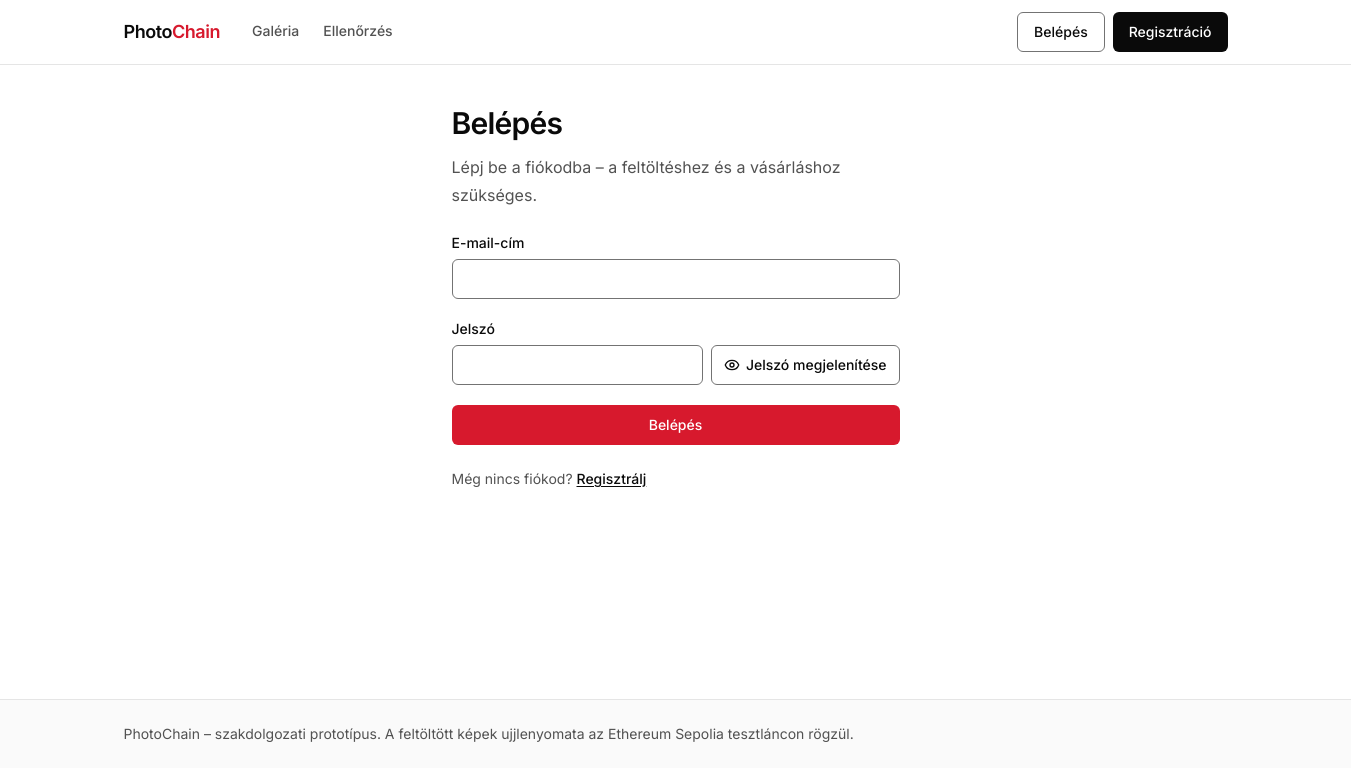
LoginPage › hibás adatoknál a szerver üzenetét riasztásként mutatja, a beírt e-mail-cím megmarad
Step 1. Type "anna@pelda.hu" into the field labelled "E-mail-cím" → (676, 279), box [452,259,900,299]
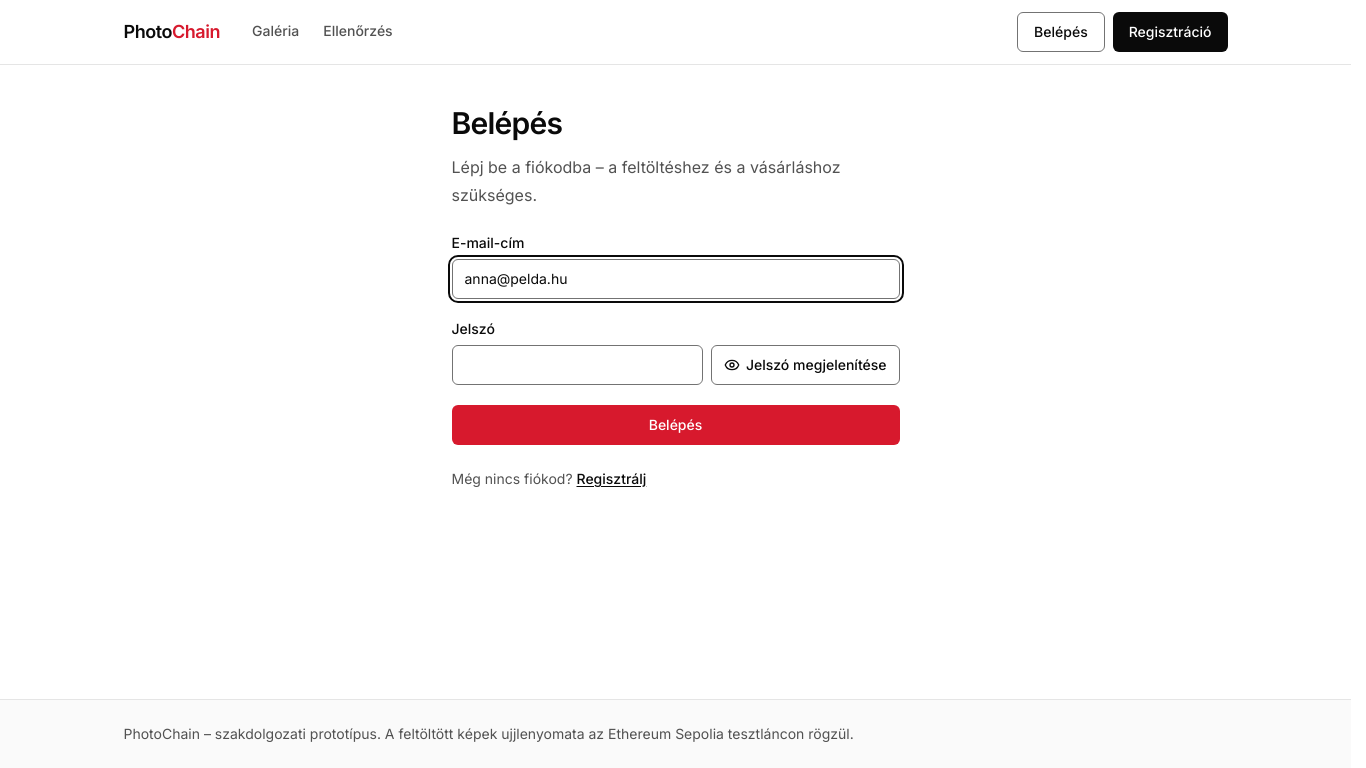
Step 2. Type "rossz-jelszo" into the password field labelled "Jelszó" → (577, 365), box [452,345,703,385]
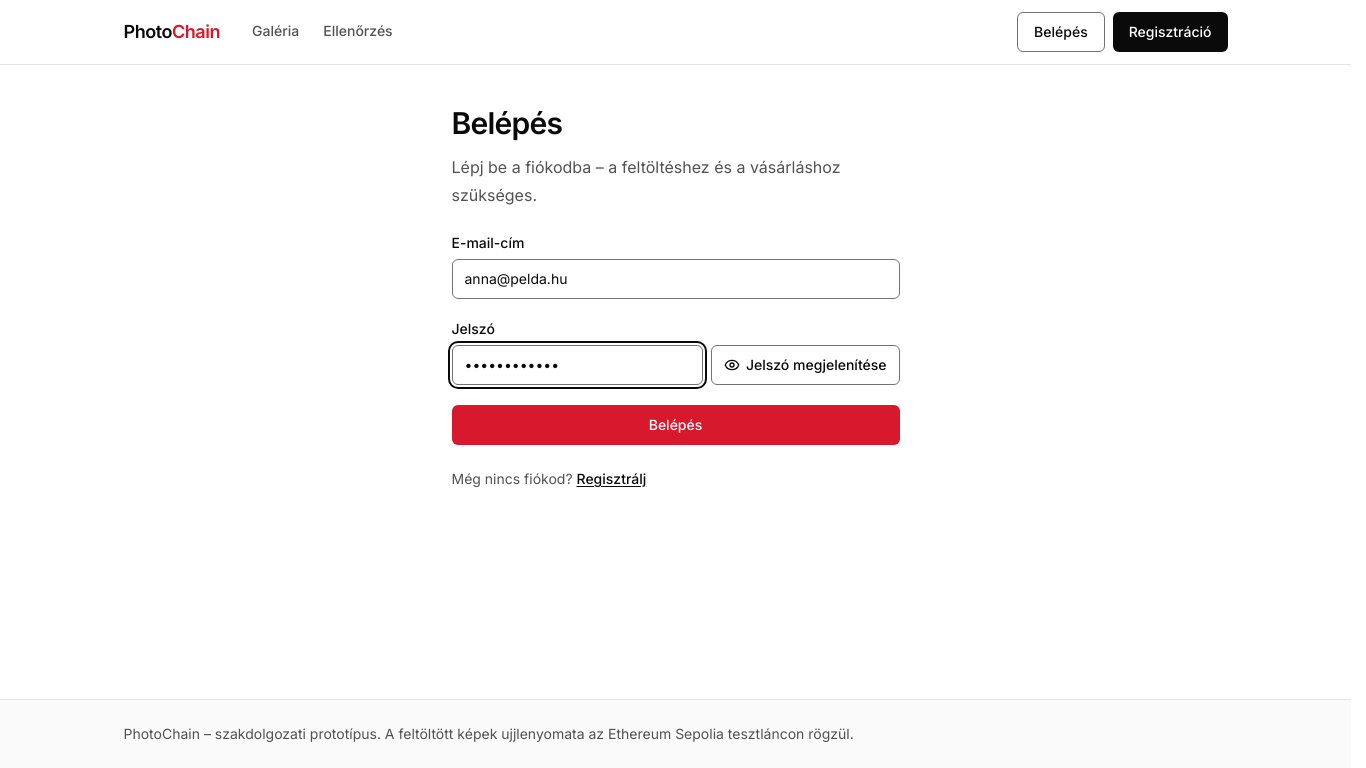
Step 3. Click the button "Belépés" → (676, 425), box [452,405,900,445]
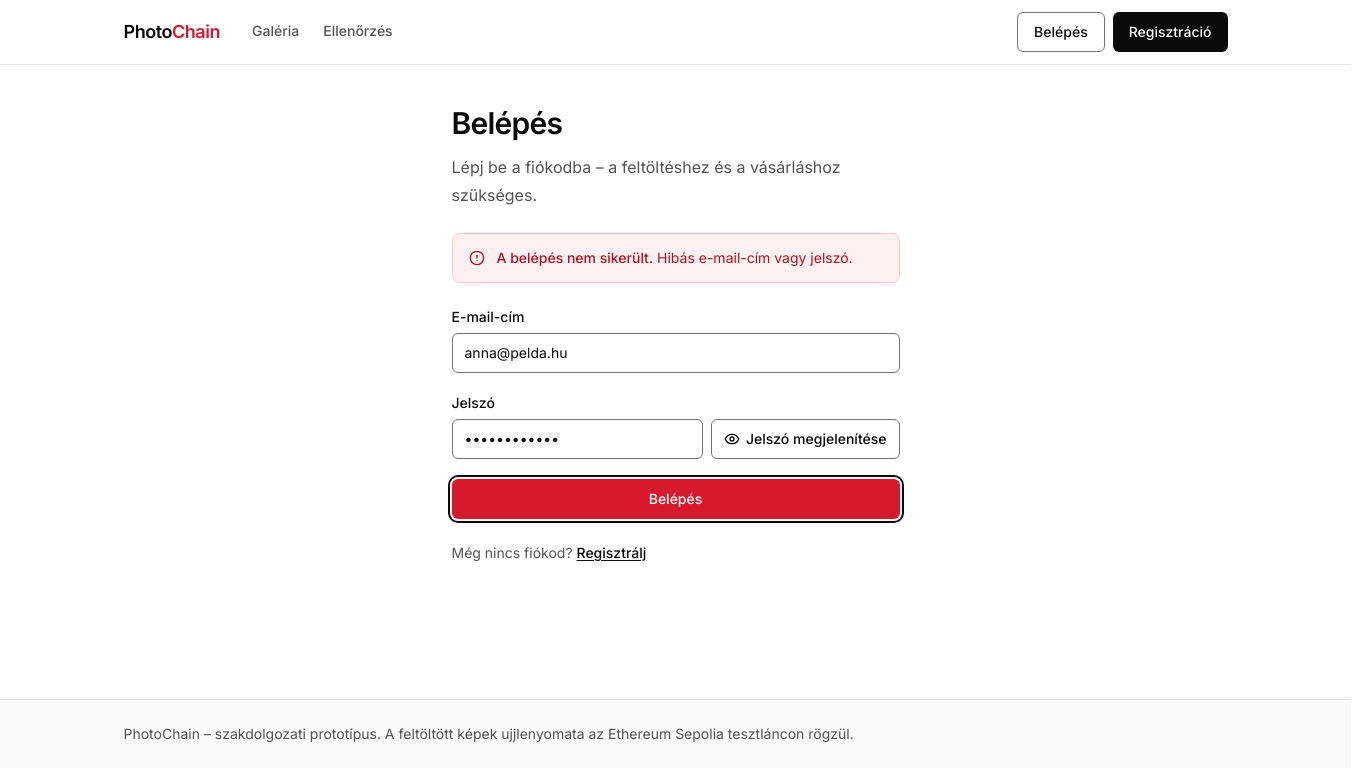
Now the message reads "A belépés nem sikerült. Hibás e-mail-cím vagy jelszó.", box [452,233,900,283]
